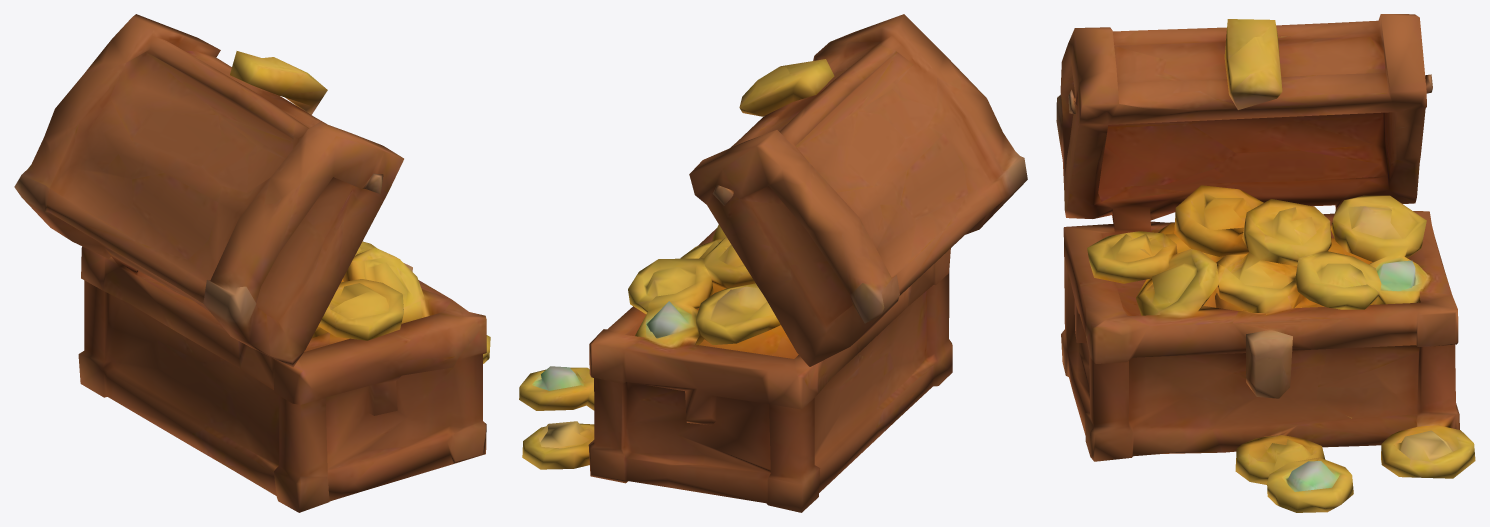
The model's file is chest.glb.
3 renders of one model, left to right at view 1: azimuth 30°, elevation 25°; view 2: azimuth 150°, elevation 25°; view 3: azimuth 270°, elevation 25°, orthographic. The views are drawn at different scales.
Parts seen in each view (by area): view 1: tripo_node_64b8088a-149f-4e1a-8be7-0dd7e54f22d0; view 2: tripo_node_64b8088a-149f-4e1a-8be7-0dd7e54f22d0; view 3: tripo_node_64b8088a-149f-4e1a-8be7-0dd7e54f22d0.
Boxes of the visible parts, <box> form: tripo_node_64b8088a-149f-4e1a-8be7-0dd7e54f22d0: <box>14,14,490,512</box>; tripo_node_64b8088a-149f-4e1a-8be7-0dd7e54f22d0: <box>519,14,1027,512</box>; tripo_node_64b8088a-149f-4e1a-8be7-0dd7e54f22d0: <box>1056,14,1475,512</box>.
Bounding box in the file's own units: 1 × 0.8539 × 0.8816.
1 material, 1 textured.
